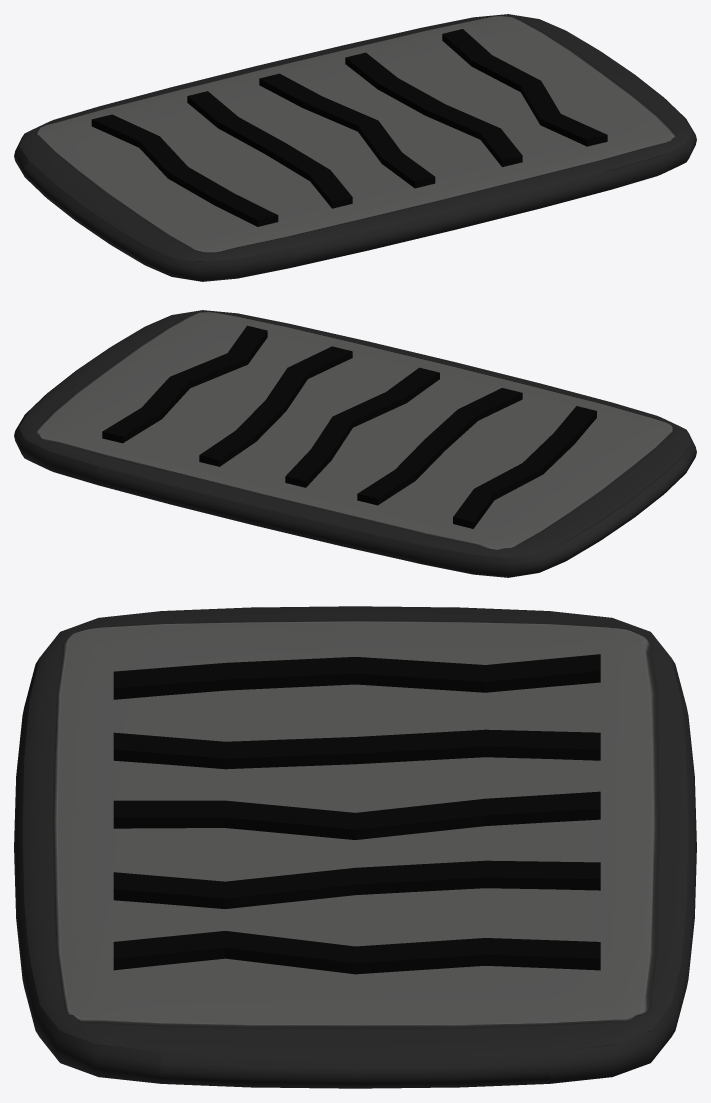
Rendered from carta (1).fbx.
The picture shows the model from 3 angles, top to bottom: view 1: azimuth 30°, elevation 25°; view 2: azimuth 150°, elevation 25°; view 3: azimuth 270°, elevation 25°; orthographic projection. The views are drawn at different scales.
Visible parts, largest first — view 1: Cube.001; view 2: Cube.001; view 3: Cube.001.
Part boxes in pixels (<box>): Cube.001: <box>14,14,696,281</box>; Cube.001: <box>14,310,696,577</box>; Cube.001: <box>14,606,696,1088</box>.
Size of the model in its own units: 374 by 23.74 by 234.
1 material, 1 textured.
